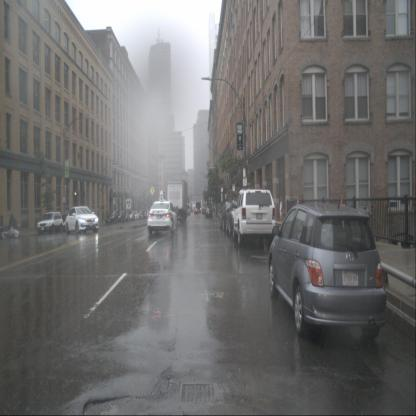human-pedestrian-adult: (100, 203, 105, 224)
movable_object-trafficcone: (278, 195, 284, 239)
vehicle-car: (268, 202, 387, 344), (233, 188, 276, 248), (147, 199, 178, 233), (226, 200, 251, 240), (65, 207, 99, 234), (219, 200, 242, 232), (37, 212, 63, 235), (55, 214, 74, 233), (106, 210, 118, 224), (115, 211, 125, 223), (205, 207, 213, 218), (122, 212, 130, 222), (127, 211, 135, 221), (132, 212, 140, 221), (136, 210, 141, 219), (142, 211, 147, 218), (194, 207, 199, 214), (186, 208, 190, 216)
vehicle-motorcycle: (1, 214, 20, 239)
vehicle-truck: (167, 180, 188, 224), (196, 202, 200, 214)
